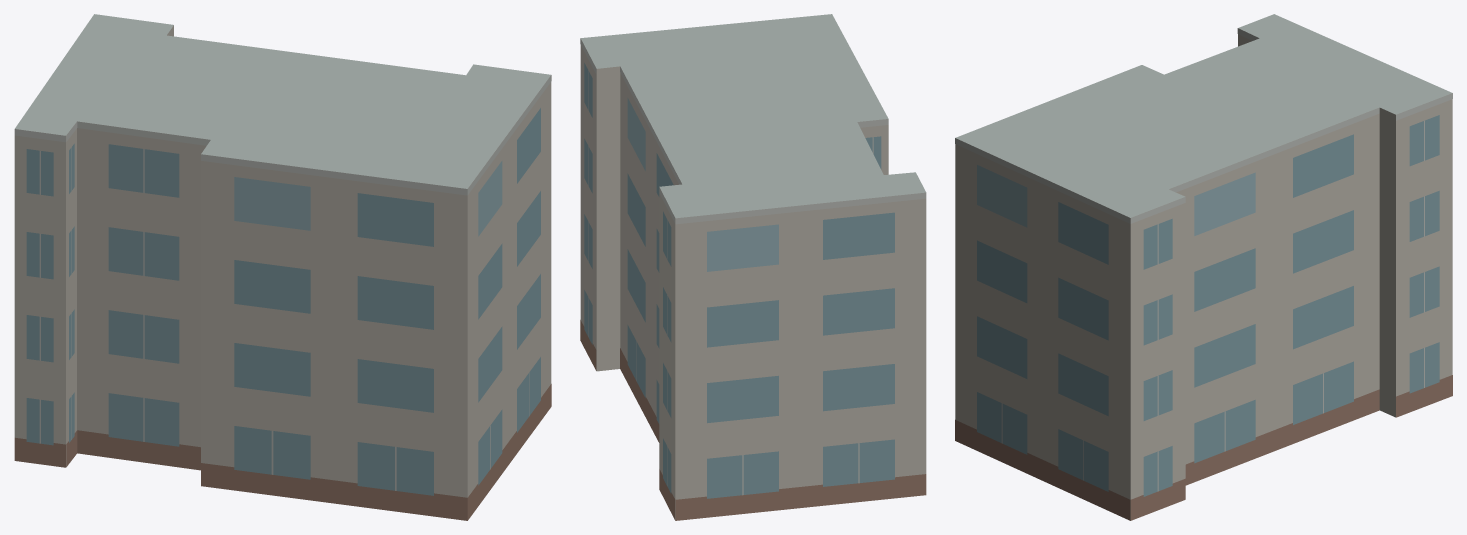
The model's file is survey-upis-32646473.glb.
3 renders of one model, left to right at view 1: azimuth 30°, elevation 25°; view 2: azimuth 150°, elevation 25°; view 3: azimuth 270°, elevation 25°, orthographic. The views are drawn at different scales.
Visible parts, largest first — view 1: survey-upis-32646473.tmp; view 2: survey-upis-32646473.tmp; view 3: survey-upis-32646473.tmp.
Part boxes in pixels (x1=…): survey-upis-32646473.tmp: x1=14, y1=14, x2=551, y2=520; survey-upis-32646473.tmp: x1=580, y1=14, x2=926, y2=520; survey-upis-32646473.tmp: x1=955, y1=14, x2=1452, y2=520.
Size of the model in its own units: 17.77 by 12.3 by 18.32.
